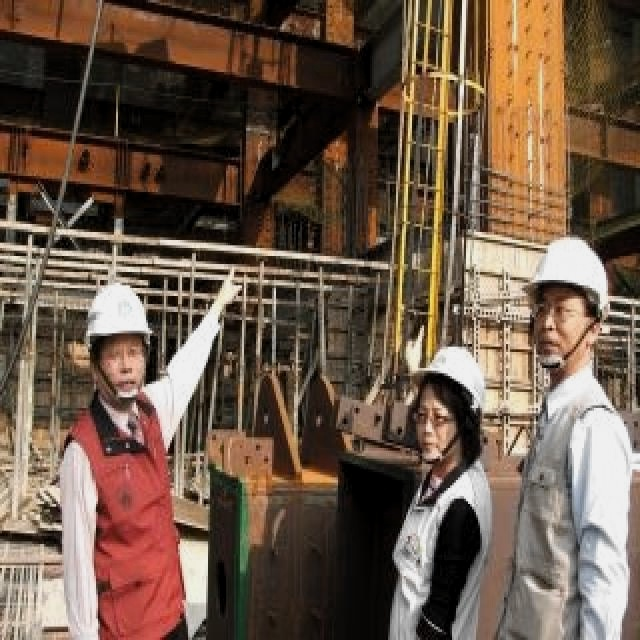Sin_Casco_Mascarrilla: (524, 237, 609, 375), (86, 281, 153, 401)
Sin_Chaleco: (498, 389, 630, 640)
